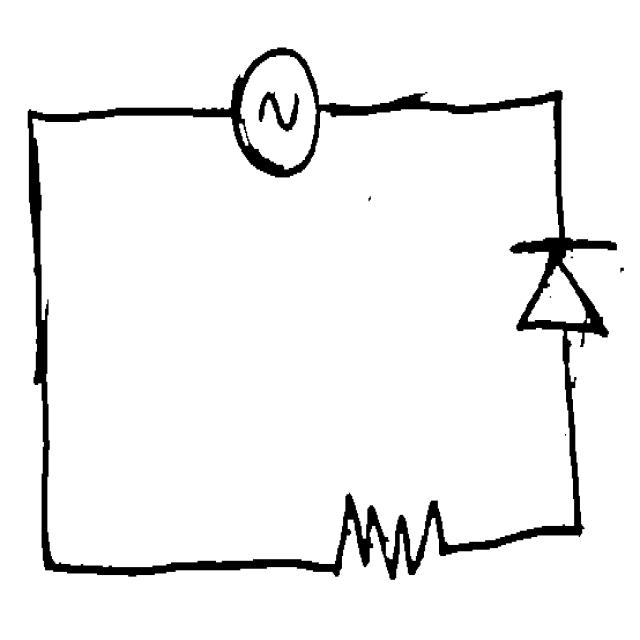ac: (225, 41, 329, 186)
diode: (498, 230, 619, 355)
resistor: (318, 477, 452, 590)
